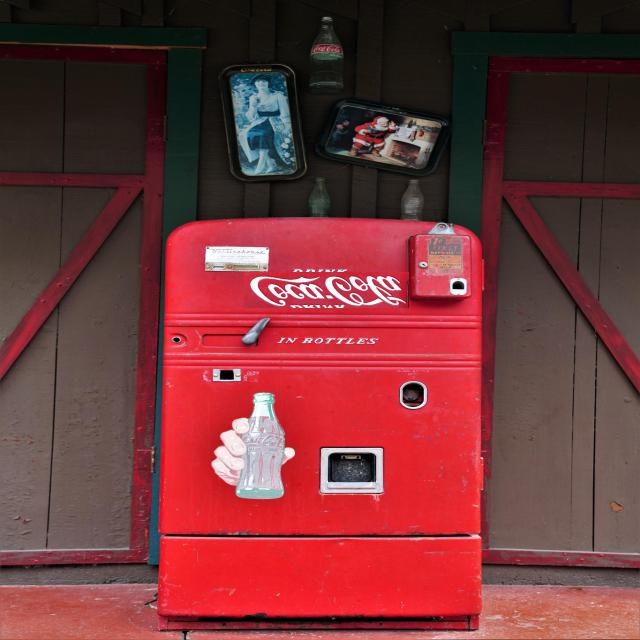coca-cola: (244, 272, 409, 308)
